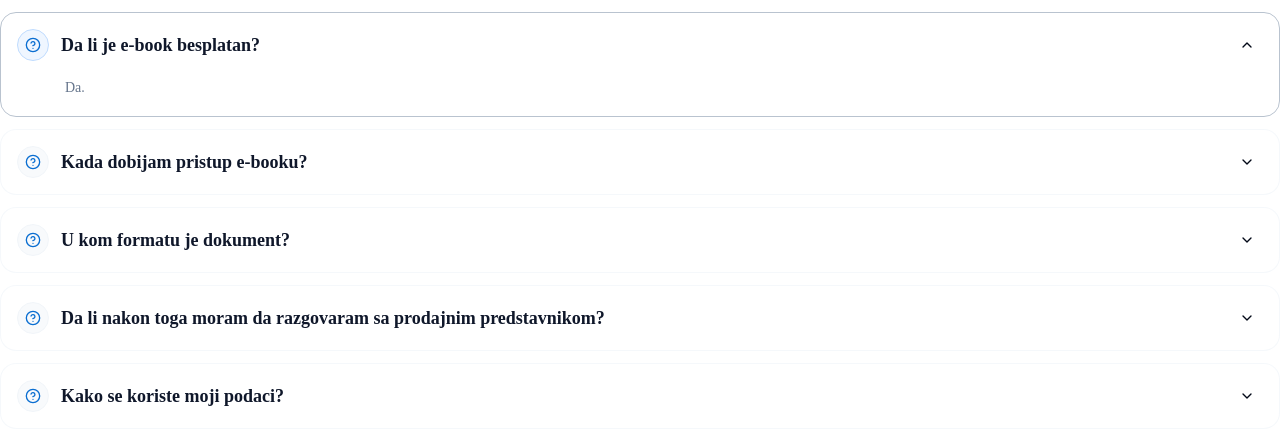
the FAQ accordion › the item and its region agree on state
The image size is (1280, 429).
What coordinates should you click on to do the following:
click the 4th button
I would click on:
 (33, 318)
Its box is [17,286,1263,350].
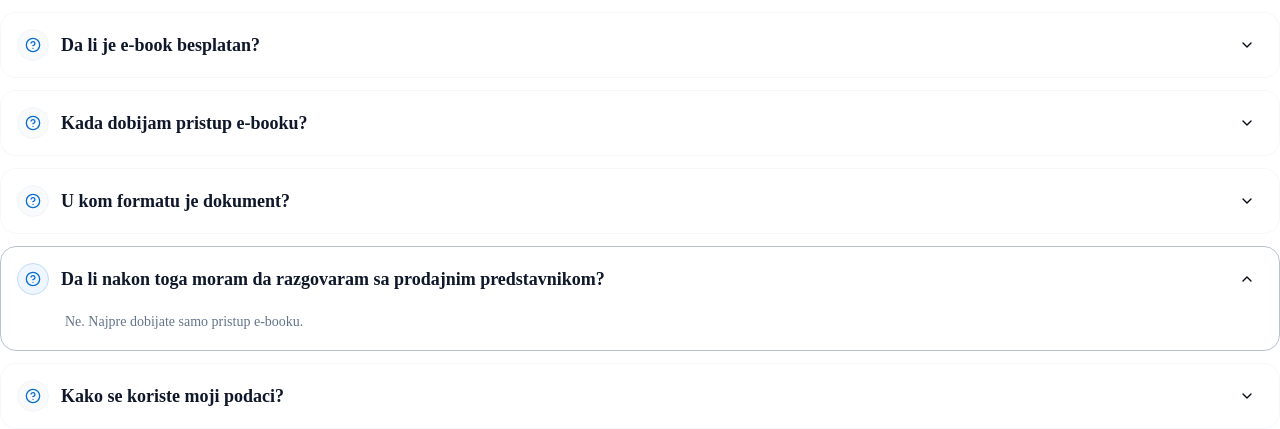
Expected: the text "Ne. Najpre dobijate samo pristup e-booku." is shown, [65,314,303,329]
